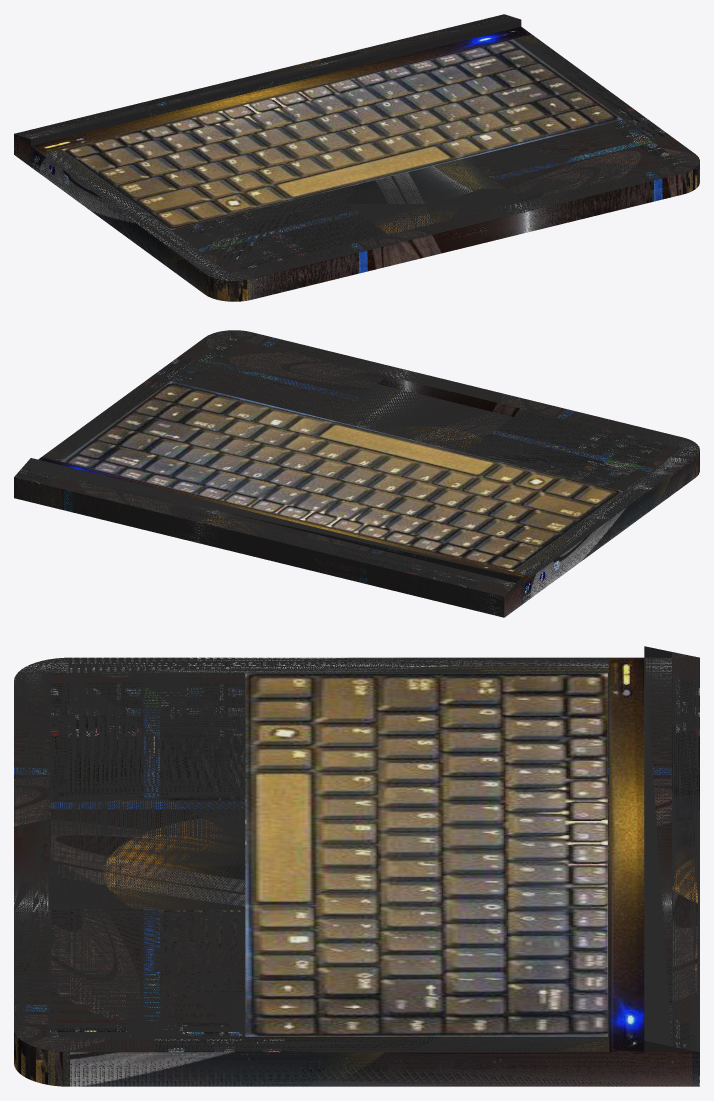
3 renders of one model, top to bottom at view 1: azimuth 30°, elevation 25°; view 2: azimuth 150°, elevation 25°; view 3: azimuth 270°, elevation 25°, orthographic. The views are drawn at different scales.
Size of the model in its own units: 1.27 by 0.0689 by 0.9305.
